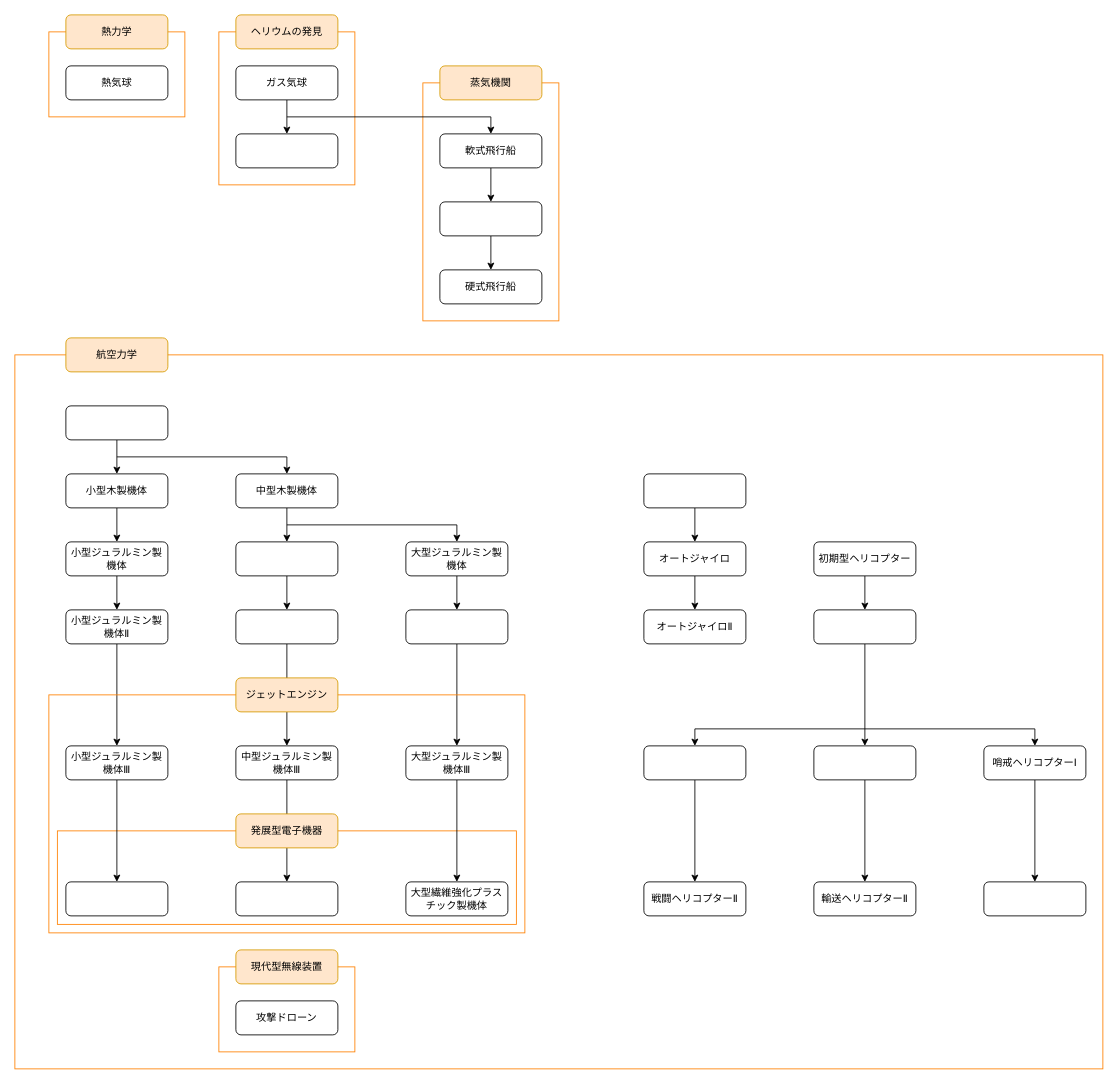
Some shapes in this 1118 by 1084 pixel diagram are drawn without their labels. Here are the shapes that lost their labels. From the top down, the box of each, then its label:
(235, 133, 338, 168): 自由気球
(439, 201, 542, 236): 反硬式飛行船
(65, 405, 168, 440): 黎明期の航空機体
(643, 473, 746, 508): ジャイロ・プレーン
(235, 541, 338, 576): 中型ジュラルミン製機体
(235, 609, 338, 644): 中型ジュラルミン製機体Ⅱ
(405, 609, 508, 644): 大型ジュラルミン製機体Ⅱ
(813, 609, 916, 644): 対戦期型 ヘリコプター
(643, 745, 746, 780): 戦闘ヘリコプターⅠ
(813, 745, 916, 780): 輸送ヘリコプター Ⅰ
(65, 881, 168, 916): 小型繊維強化プラスチック製機体
(235, 881, 338, 916): 中型繊維強化プラスチック製機体
(983, 881, 1086, 916): 哨戒ヘリコプターⅡ
